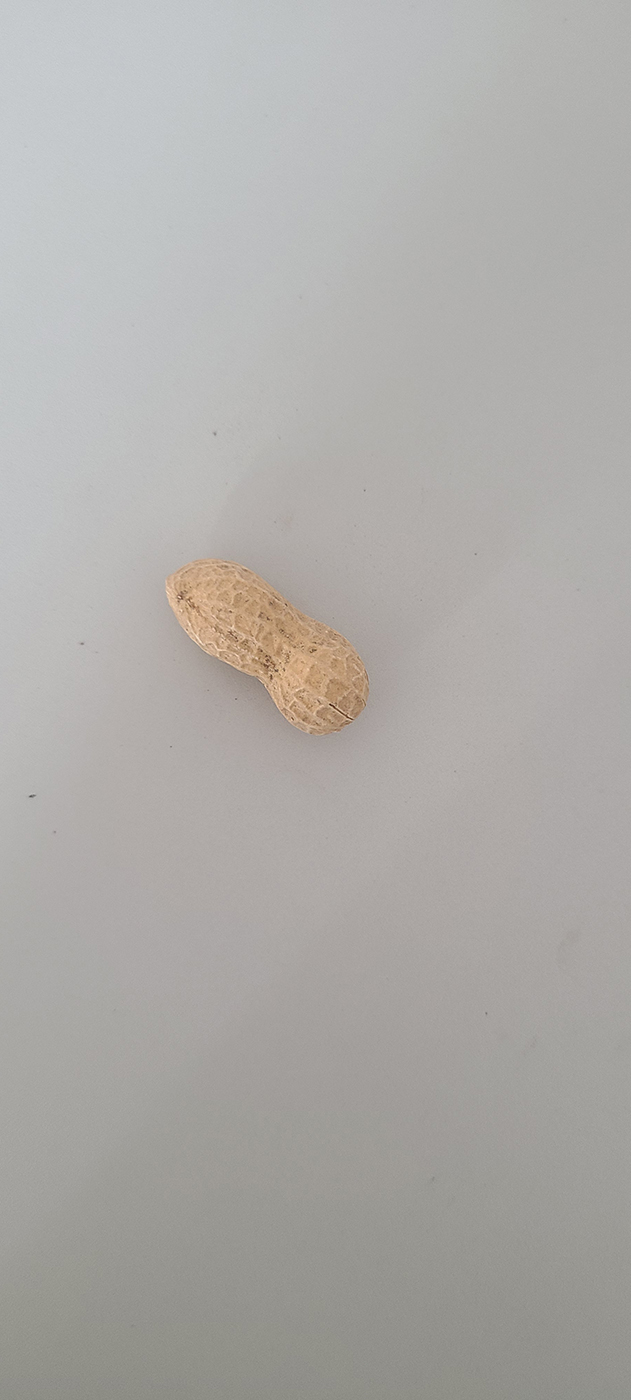h: (163, 556, 371, 737)
